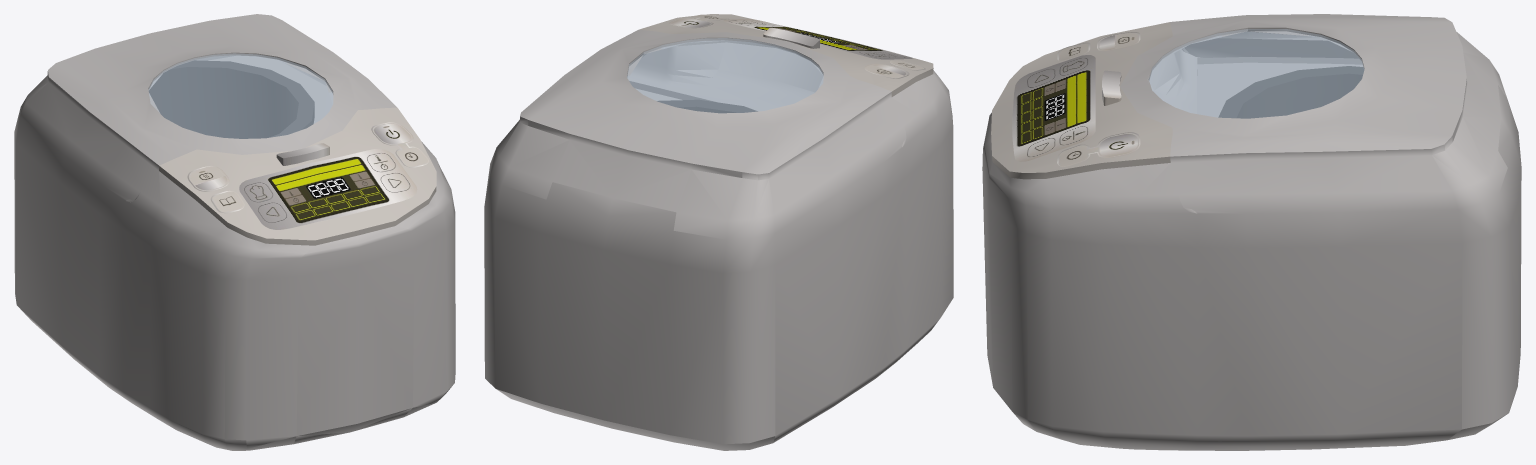
Rendered from sh_scopia_cooker.glb.
3 renders of one model, left to right at view 1: azimuth 30°, elevation 25°; view 2: azimuth 150°, elevation 25°; view 3: azimuth 270°, elevation 25°, orthographic. The views are drawn at different scales.
Size of the model in its own units: 0.289 by 0.271 by 0.4.
Materials: 6 (2 with a texture image).
